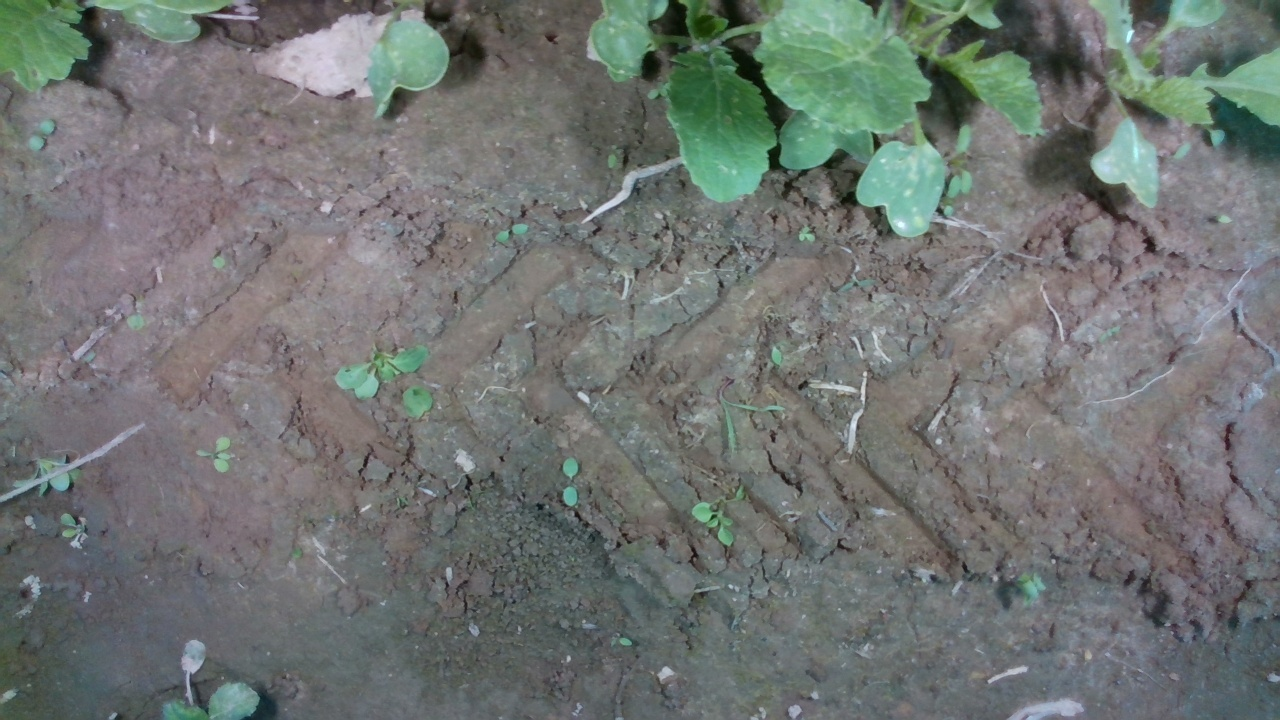weed: (192, 434, 231, 475), (559, 454, 579, 508), (26, 117, 56, 152), (494, 222, 529, 242), (797, 223, 818, 244), (606, 142, 622, 169)
